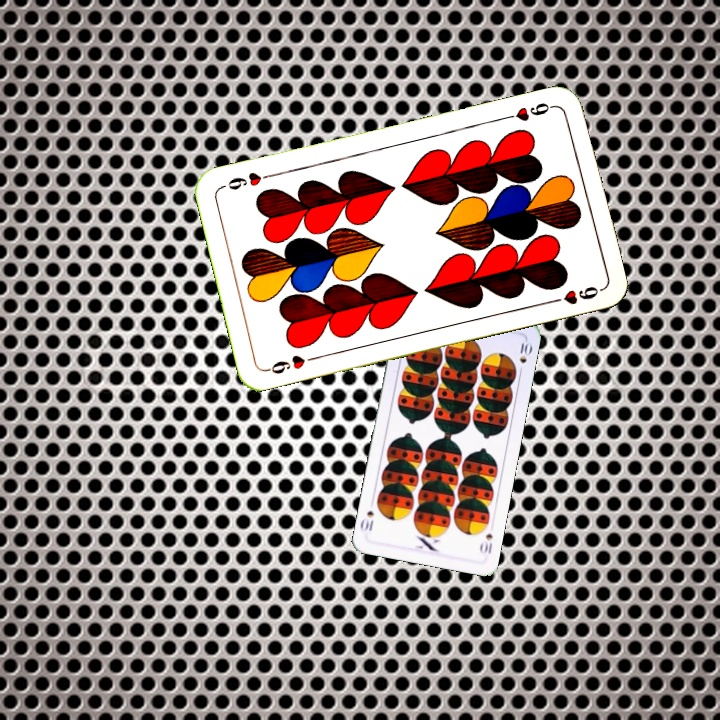H9: (262, 351, 320, 377), (500, 98, 558, 124)
S10: (476, 530, 495, 556)
